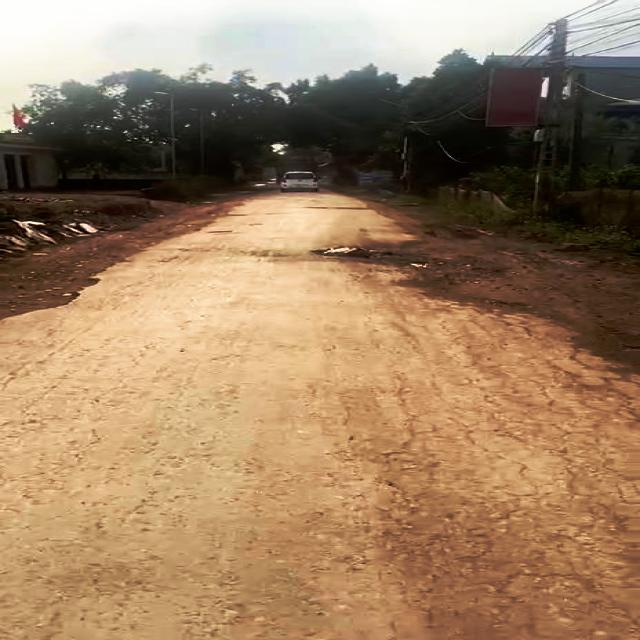pothole: (317, 241, 388, 265)
